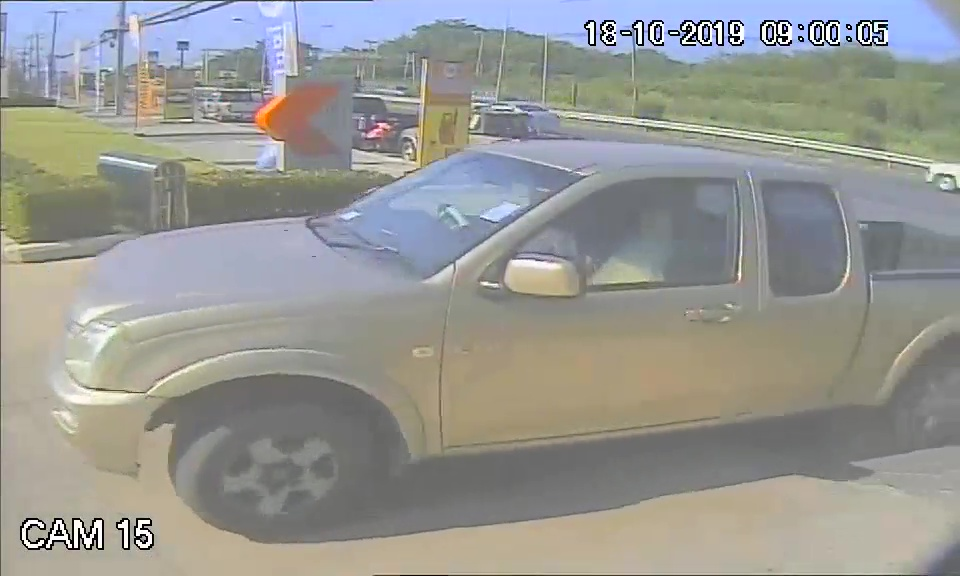pickup: (51, 135, 880, 529)
